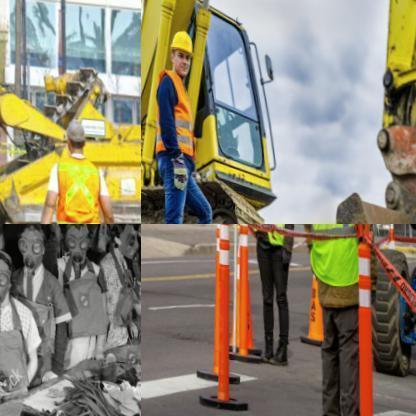Boots: (167, 22, 204, 60)
Glass: (154, 71, 196, 153), (173, 51, 174, 61)
